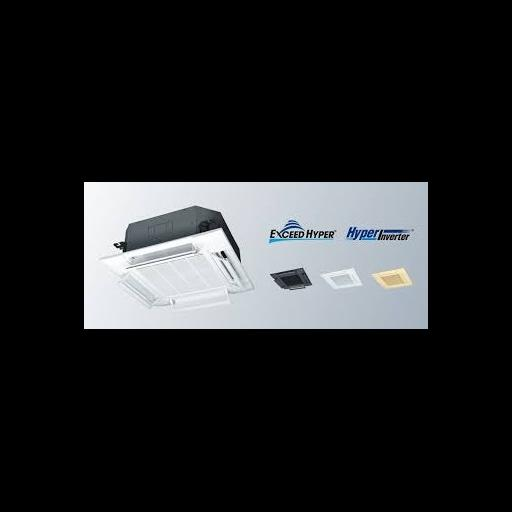4-way-ac: (100, 229, 254, 306), (271, 267, 312, 291), (321, 268, 362, 291), (372, 268, 412, 290)
